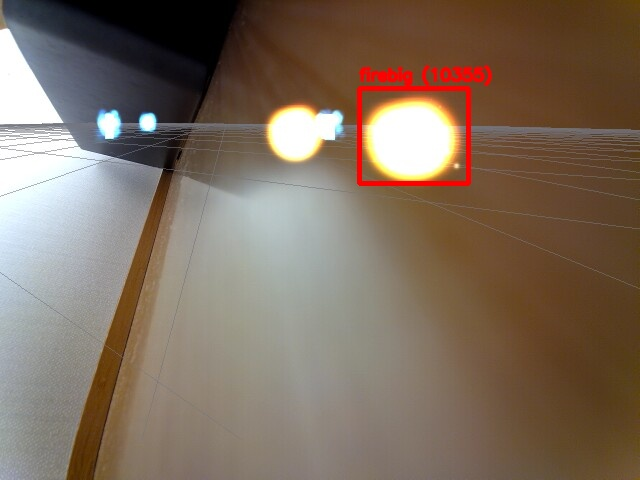firebig: (359, 88, 468, 183)
